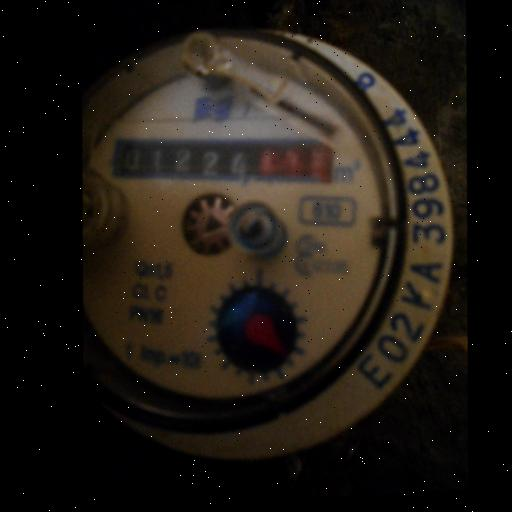0: (119, 143, 145, 173)
1: (255, 143, 283, 176), (144, 143, 168, 174)
2: (197, 144, 225, 180), (169, 142, 196, 174)
4: (223, 143, 254, 179)
5: (277, 142, 309, 176)
9: (303, 143, 335, 184)
border_water_meter_number: (108, 120, 339, 195)
